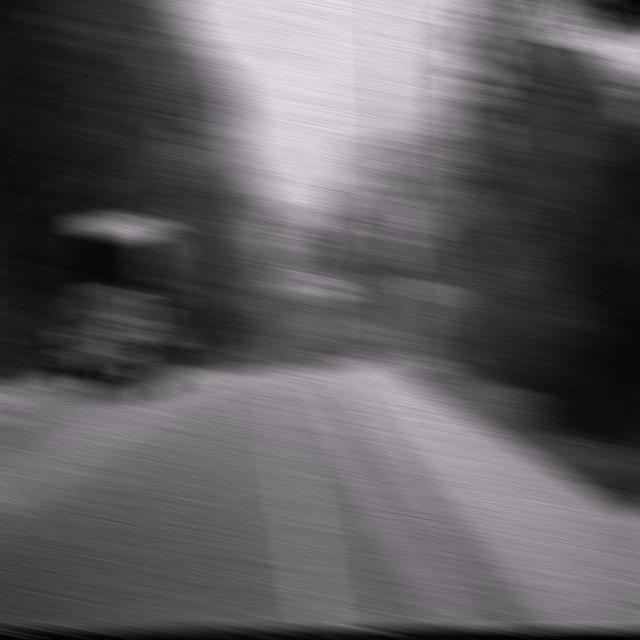speedLimit35: (376, 193, 415, 244)
